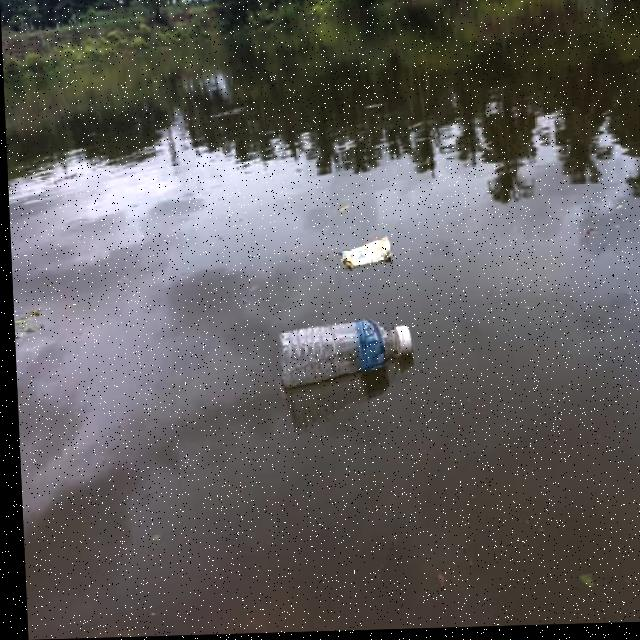paper: (316, 231, 400, 301)
waterbottle: (272, 318, 420, 417)
